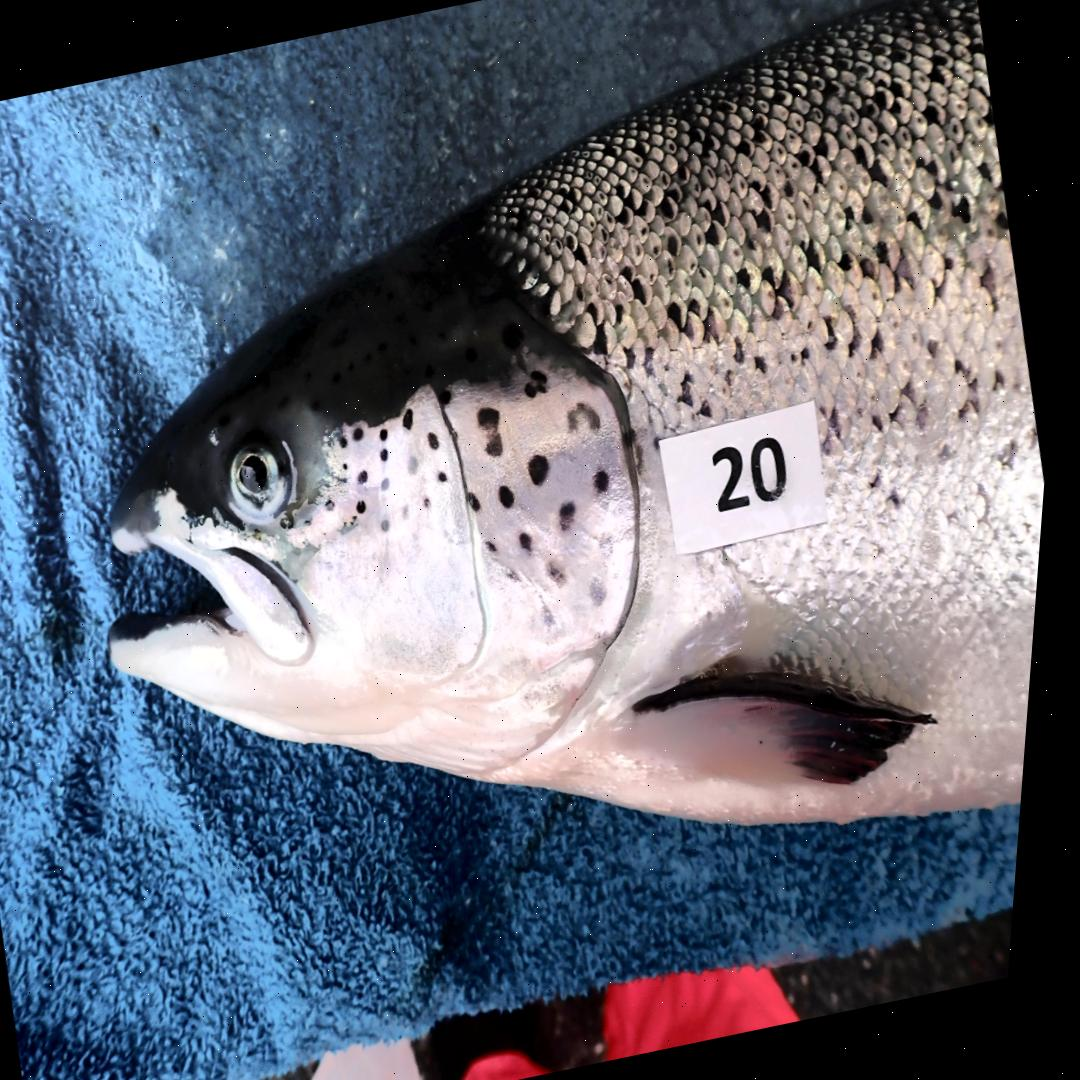spot: (484, 407, 510, 457), (573, 402, 608, 432), (605, 529, 626, 561), (535, 455, 557, 485), (531, 371, 554, 399), (548, 599, 567, 628), (554, 563, 576, 588), (566, 501, 584, 531), (599, 577, 616, 606), (510, 564, 531, 584), (600, 470, 618, 492), (347, 517, 368, 535), (507, 485, 522, 508), (527, 531, 541, 551), (434, 432, 447, 451), (410, 409, 421, 430), (477, 493, 489, 512), (444, 390, 457, 406), (415, 456, 425, 476), (388, 516, 399, 534), (359, 426, 370, 441), (363, 501, 375, 513), (310, 515, 321, 528), (409, 503, 417, 520), (365, 471, 375, 484), (389, 478, 398, 491), (386, 429, 395, 442), (495, 541, 505, 552), (333, 498, 342, 510), (347, 436, 356, 447), (445, 472, 454, 482), (388, 450, 395, 462), (432, 498, 439, 510), (348, 464, 355, 470)
